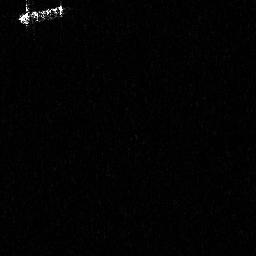ship: (15, 1, 64, 27)
